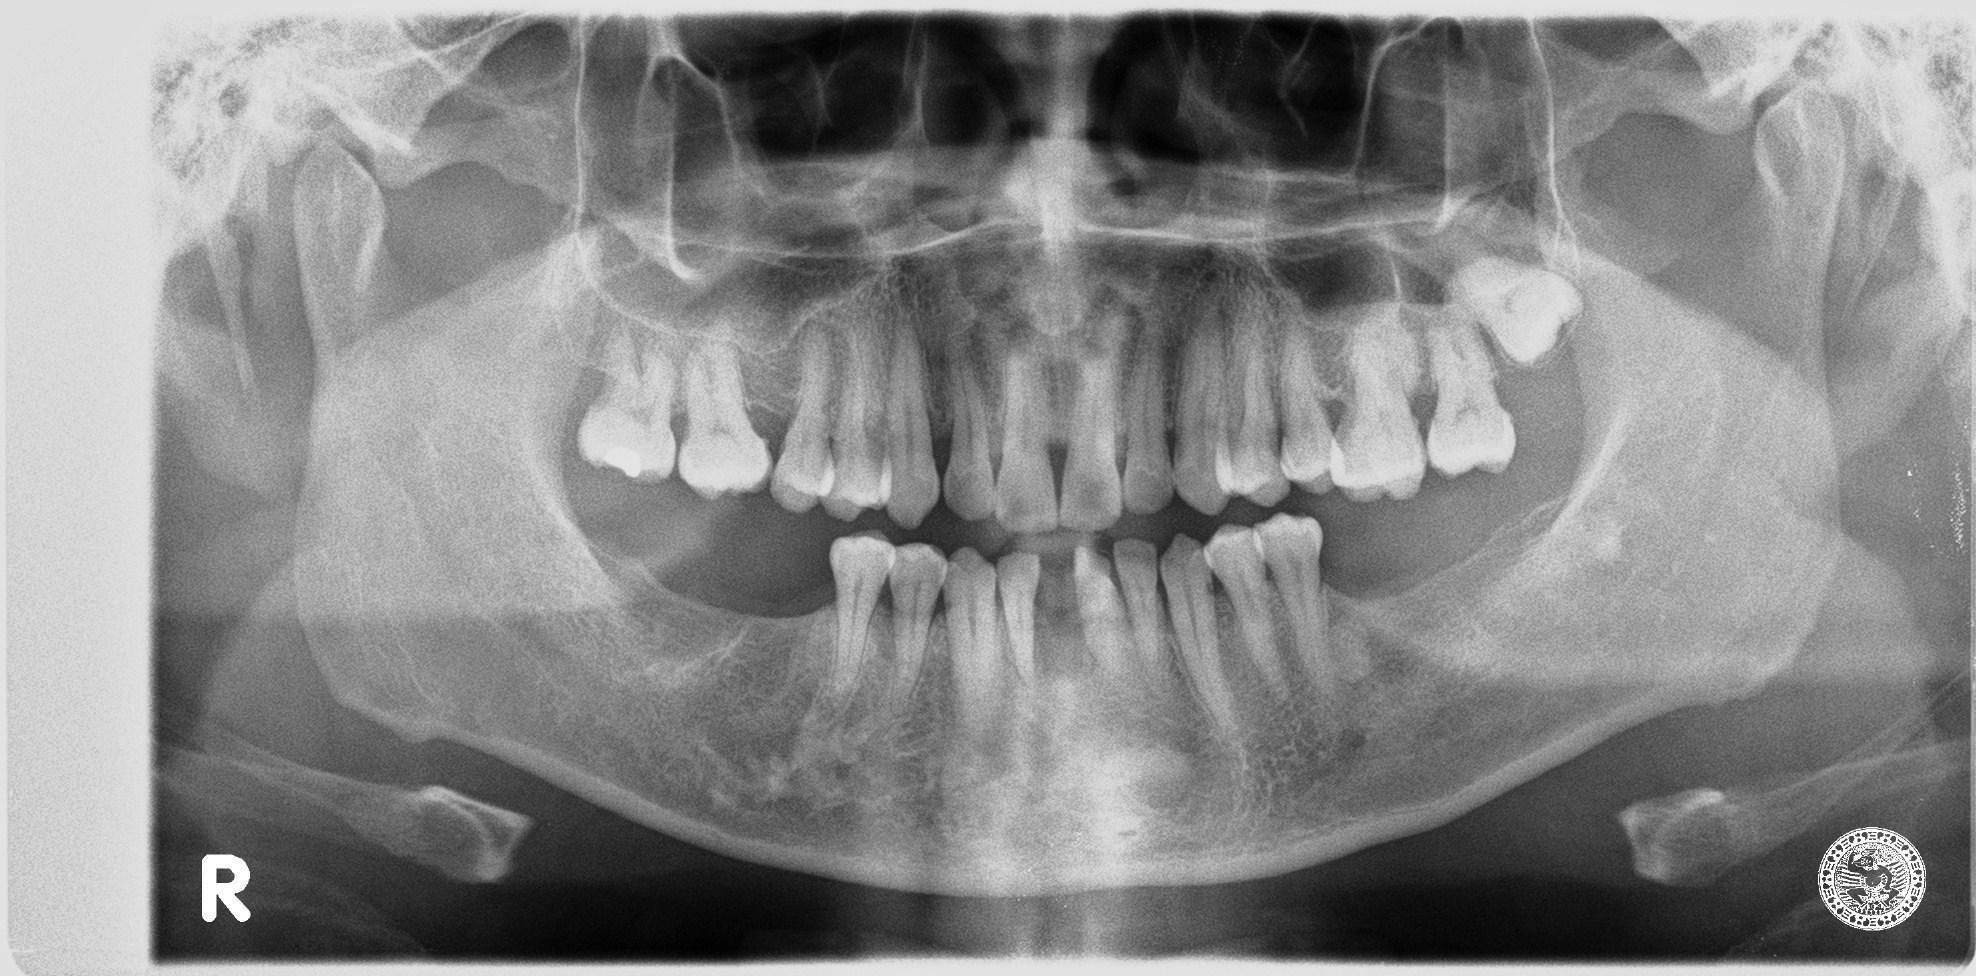Individual Tooth: (1331, 303, 1425, 499), (1159, 535, 1241, 754), (1215, 298, 1294, 506), (1255, 514, 1336, 704), (1203, 526, 1289, 704), (679, 337, 770, 497), (1427, 313, 1515, 477), (825, 291, 888, 517), (1449, 257, 1582, 364), (578, 339, 677, 480), (1059, 320, 1122, 531), (1172, 304, 1232, 513), (994, 349, 1059, 533), (771, 328, 836, 511), (885, 315, 939, 526), (829, 536, 897, 695), (943, 328, 996, 520), (1124, 317, 1175, 514), (888, 543, 946, 705), (1279, 322, 1332, 491), (944, 550, 994, 704), (1074, 549, 1132, 682), (1111, 540, 1159, 696), (997, 554, 1040, 688)
